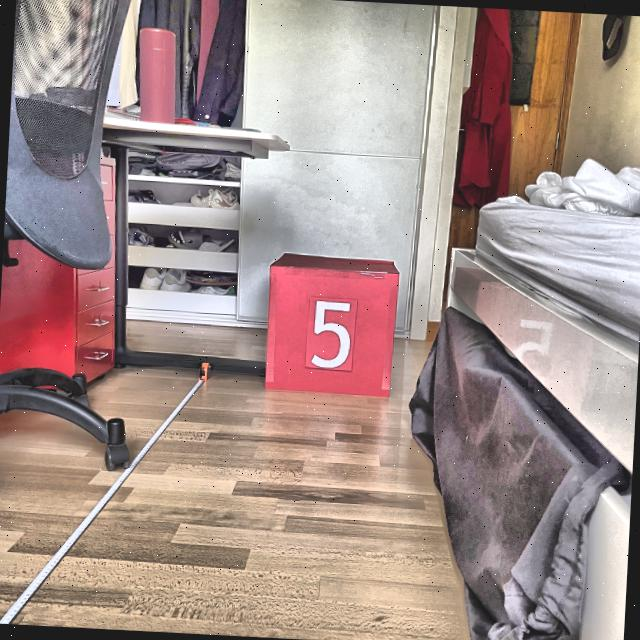five: (310, 300, 354, 370)
red box: (264, 252, 401, 399)
